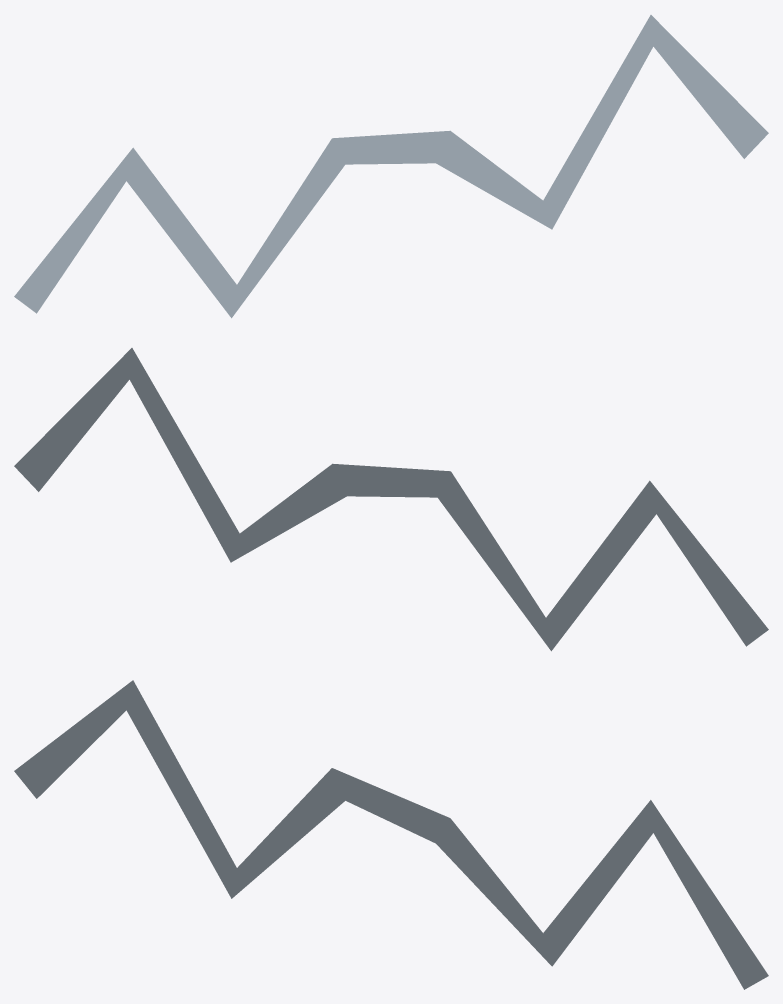
File: ElementalGround_Electro_GroundArc31.fbx
3 views of the same model, one above another, from view 1: azimuth 30°, elevation 25°; view 2: azimuth 150°, elevation 25°; view 3: azimuth 330°, elevation 25° (orthographic).
Parts seen in each view (by area): view 1: PART_GroundArc31; view 2: PART_GroundArc31; view 3: PART_GroundArc31.
Boxes of the visible parts, box(x1,y1,x2,y2) form: PART_GroundArc31: box(14, 15, 768, 318); PART_GroundArc31: box(14, 348, 768, 651); PART_GroundArc31: box(14, 680, 768, 989).
Size of the model in its own units: 72.28 by 18.45 by 3.01e-06.
